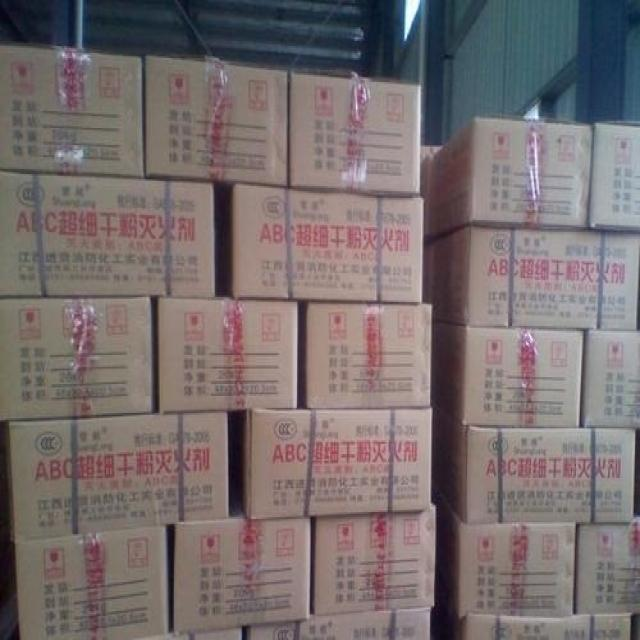box: (8, 411, 229, 544), (0, 174, 215, 297), (434, 406, 635, 526), (230, 184, 424, 304), (424, 225, 640, 331), (243, 408, 431, 521), (430, 114, 593, 244), (0, 41, 143, 177), (145, 55, 289, 186), (0, 299, 151, 420), (435, 493, 576, 618), (15, 526, 169, 640), (288, 68, 422, 198), (174, 517, 310, 635), (431, 323, 585, 427), (157, 299, 297, 411), (314, 503, 436, 616), (306, 302, 431, 408), (438, 596, 631, 640), (247, 606, 430, 640), (575, 519, 640, 613), (581, 331, 640, 427), (589, 123, 640, 230)
